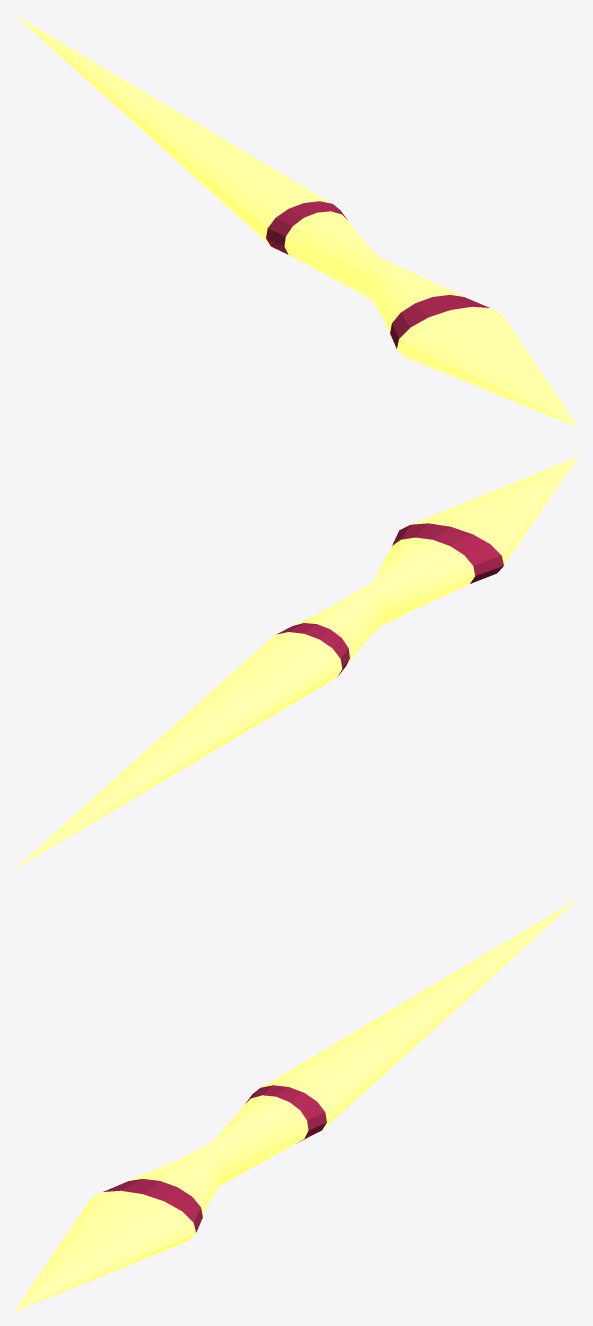
The model's file is GoalPole.fbx.
3 renders of one model, top to bottom at view 1: azimuth 30°, elevation 25°; view 2: azimuth 150°, elevation 25°; view 3: azimuth 330°, elevation 25°, orthographic.
Visible parts, largest first — view 1: Cylinder; view 2: Cylinder; view 3: Cylinder.
Part boxes in pixels (x1,y1,x2,y2): Cylinder: (15,15,578,427); Cylinder: (15,456,578,868); Cylinder: (14,899,577,1311).
Bounding box in the file's own units: 95.04 × 39.56 × 867.
